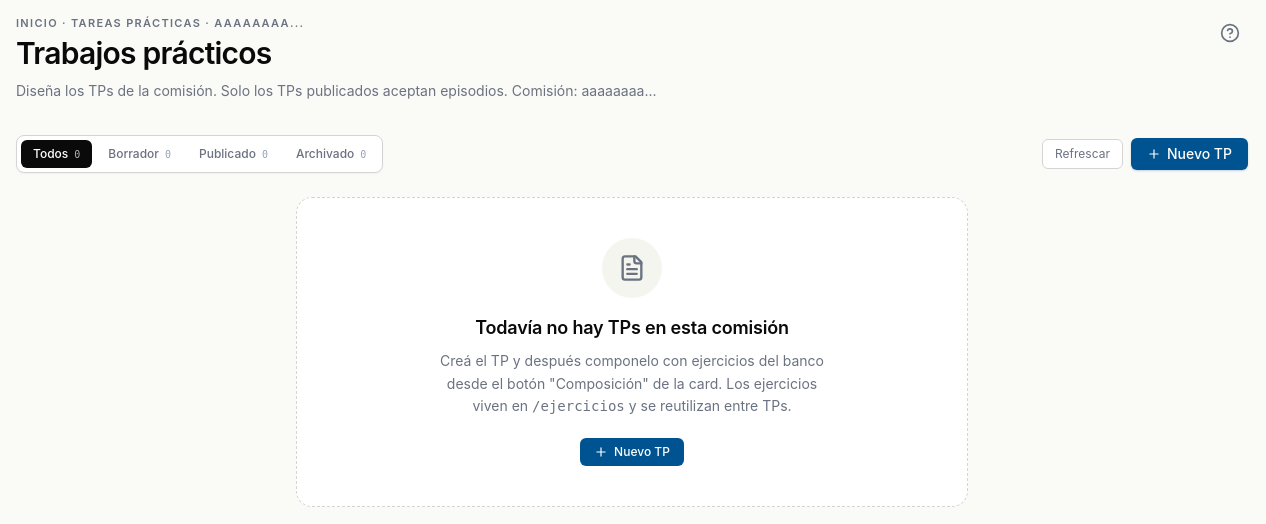
Test: TareasPracticasView — hallazgo #12 empty state sensible al filtro › filtro Borrador sin resultados: dice que no hay borradores, no que la comision no tiene TPs
This screenshot has width=1266, height=524.
Check: the heading "Todavía no hay TPs en esta comisión" is shown, box [475,317,789,338]
Click the tab "Borrador0" at (140, 154), box [96,140,183,168]
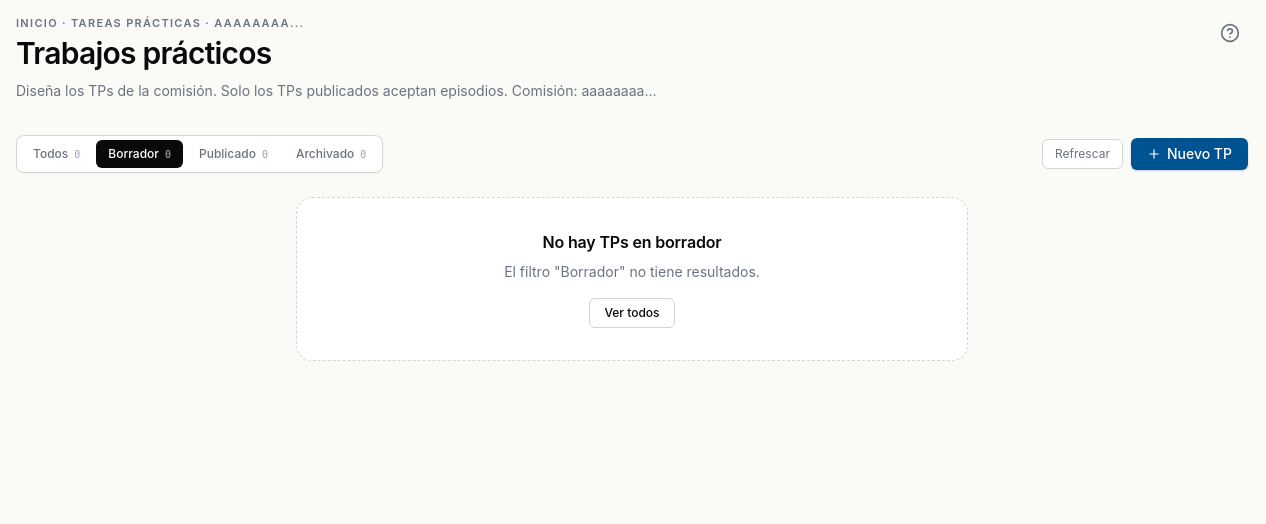
Check: the element with test id "tp-empty-filtrado" shows "No hay TPs en borrador", box [542,232,721,252]
Check: the heading "Todavía no hay TPs en esta comisión" is gone
